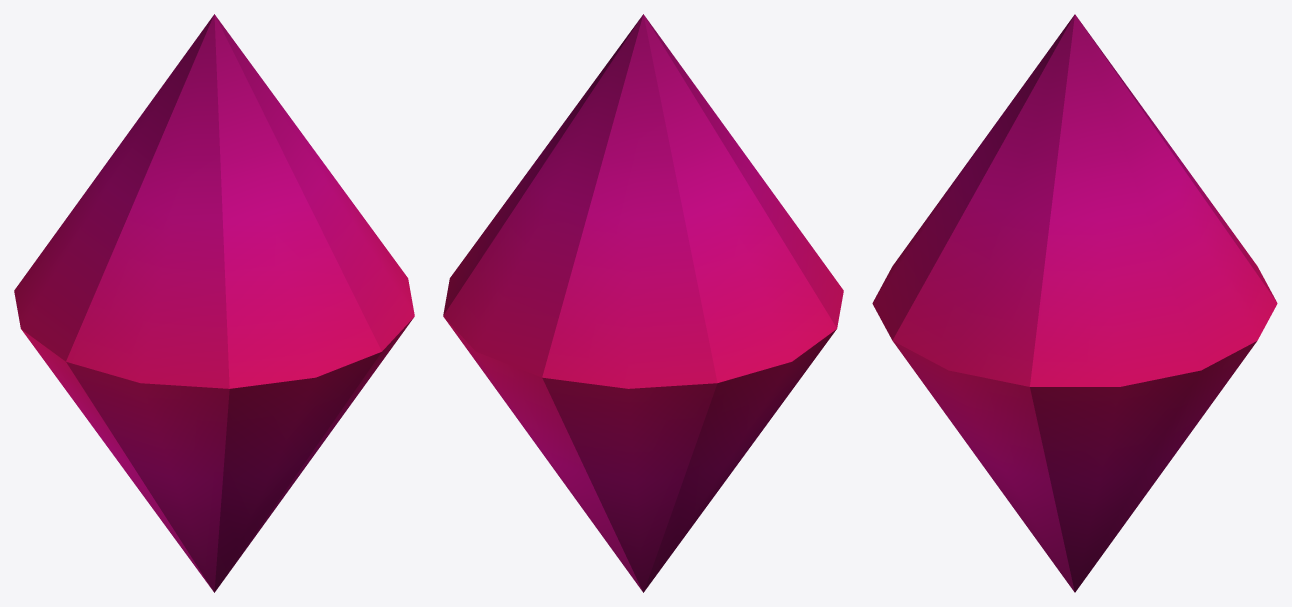
The model's file is Diamond_V3_1.fbx.
The picture shows the model from 3 angles, left to right: view 1: azimuth 30°, elevation 25°; view 2: azimuth 150°, elevation 25°; view 3: azimuth 270°, elevation 25°; orthographic projection.
Visible parts, largest first — view 1: Diamond_V3_1; view 2: Diamond_V3_1; view 3: Diamond_V3_1.
Boxes of the visible parts, x1,y1,x2,y2 form: Diamond_V3_1: [14, 14, 414, 592]; Diamond_V3_1: [443, 14, 843, 592]; Diamond_V3_1: [872, 14, 1277, 592].
Bounding box in the file's own units: 0.3373 × 0.5453 × 0.346.
